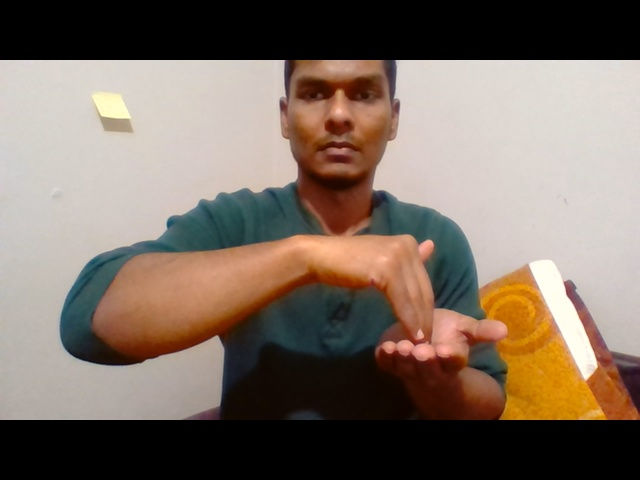ExcuseMe: (291, 229, 512, 390)
